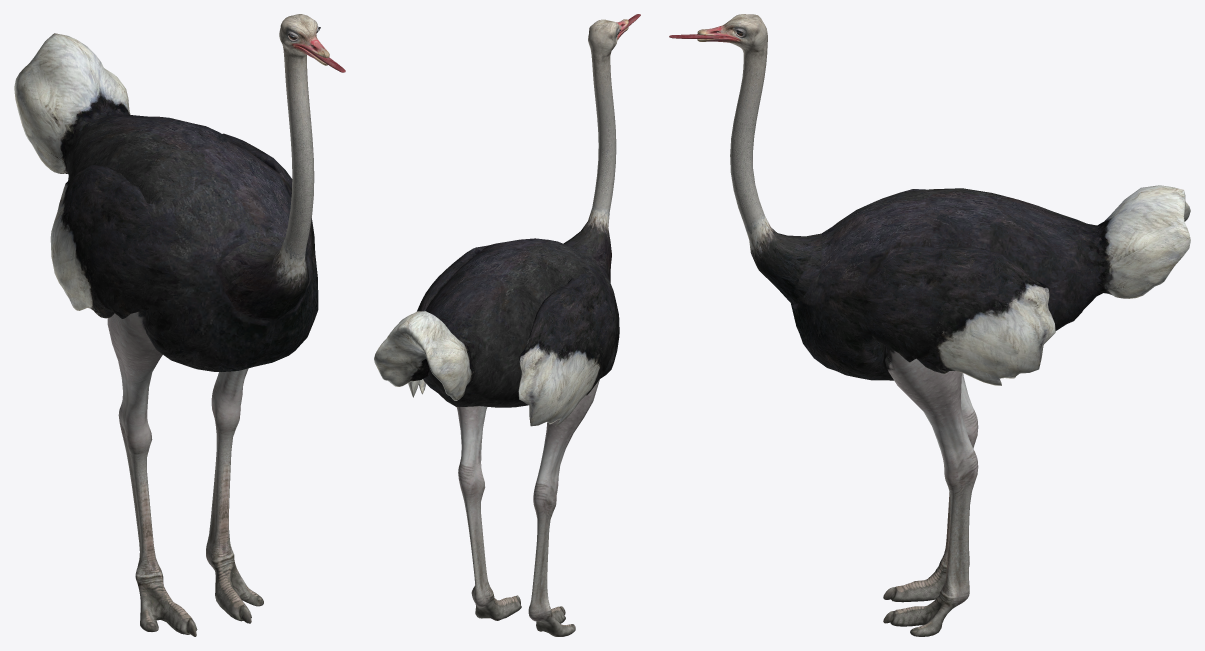
Rendered from ostrich.obj.
The picture shows the model from 3 angles, left to right: view 1: azimuth 30°, elevation 25°; view 2: azimuth 150°, elevation 25°; view 3: azimuth 270°, elevation 25°; orthographic projection. The views are drawn at different scales.
Parts seen in each view (by area): view 1: Ostrich; view 2: Ostrich; view 3: Ostrich.
Part boxes in pixels (<box>): Ostrich: <box>14,14,345,636</box>; Ostrich: <box>374,14,640,636</box>; Ostrich: <box>669,14,1190,636</box>.
Size of the model in its own units: 1.56 by 4.8 by 3.82.
Materials: 1 (1 with a texture image).
